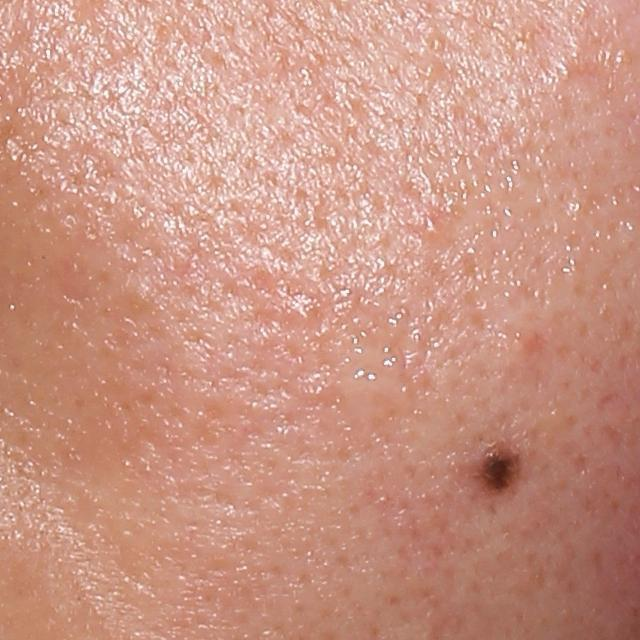nevus: (474, 441, 523, 497)
